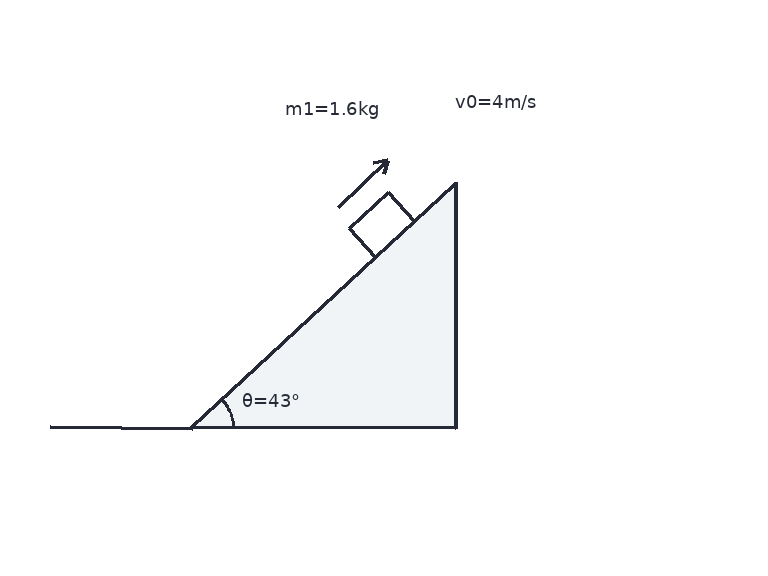block: (347, 190, 416, 259)
ramp: (191, 181, 457, 429)
